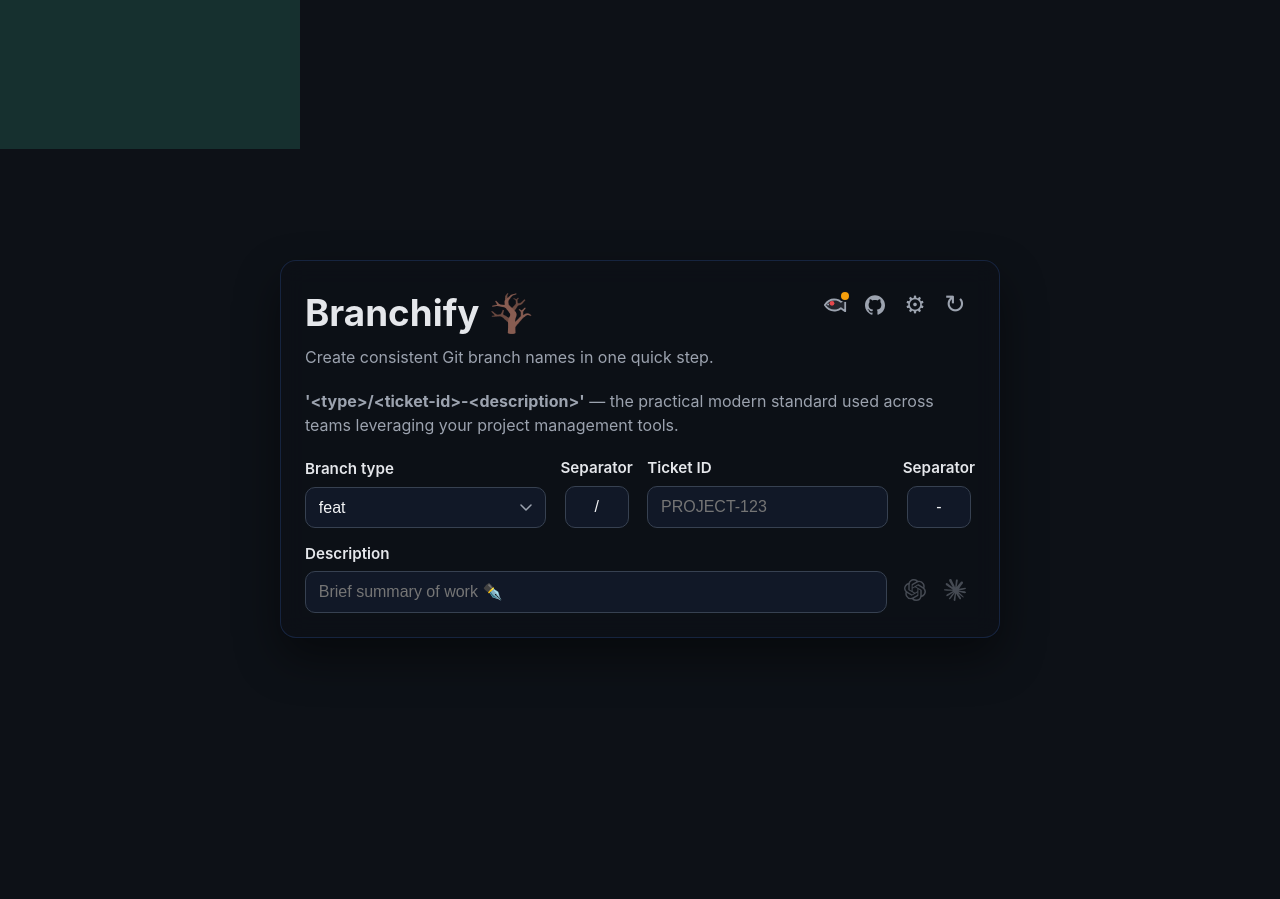
App › adds the branch to the recent list after 5 minutes without changes
Step 1. Type "Broken login" into the field labelled "Description" → (596, 592), box [305,571,887,613]
Wait 300000 ms
(page scrolled)
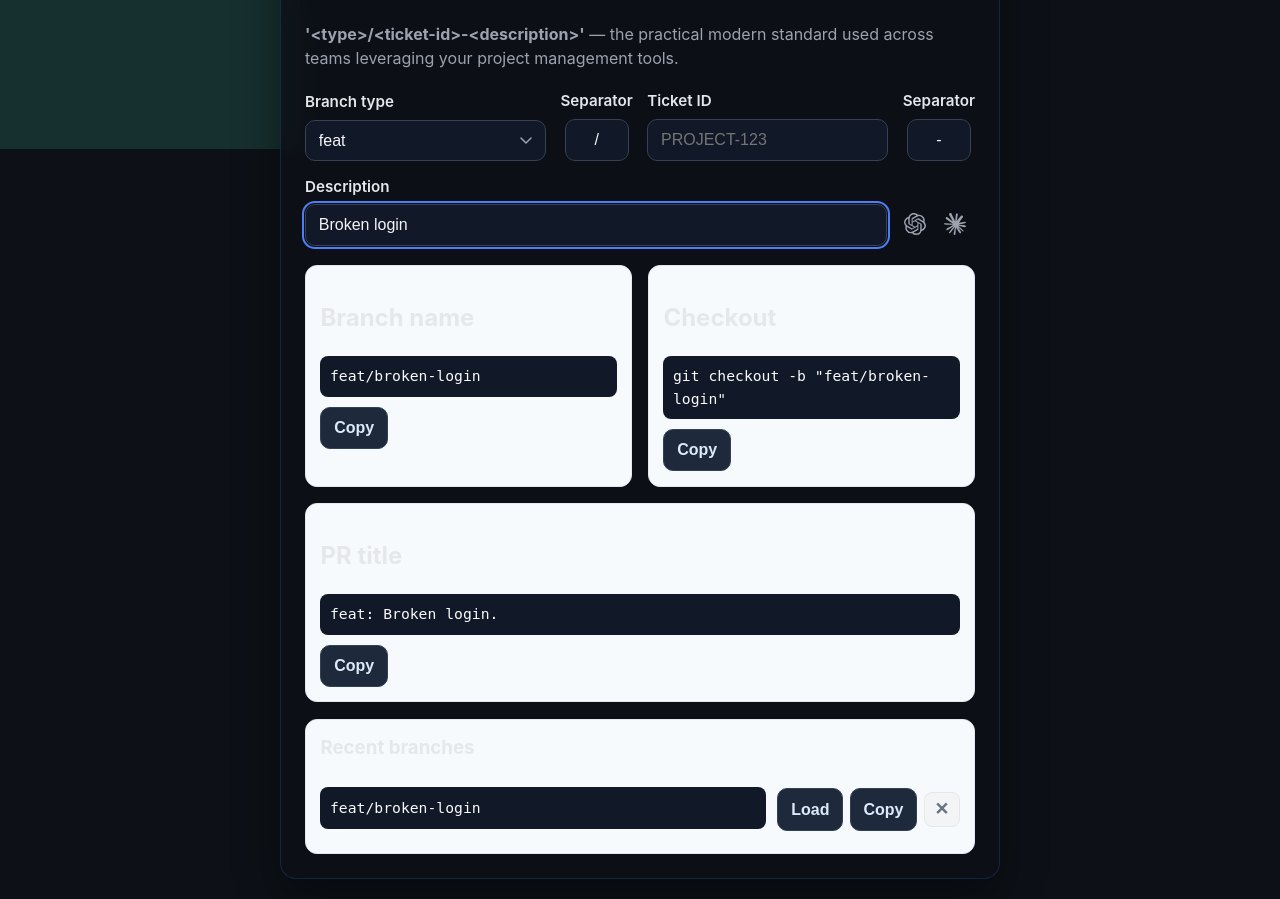
Expected: the element "Recent branches" is shown, [305,719,975,854]
Expected: the text "feat/broken-login" below "Recent branches" is shown, [330,799,481,816]
